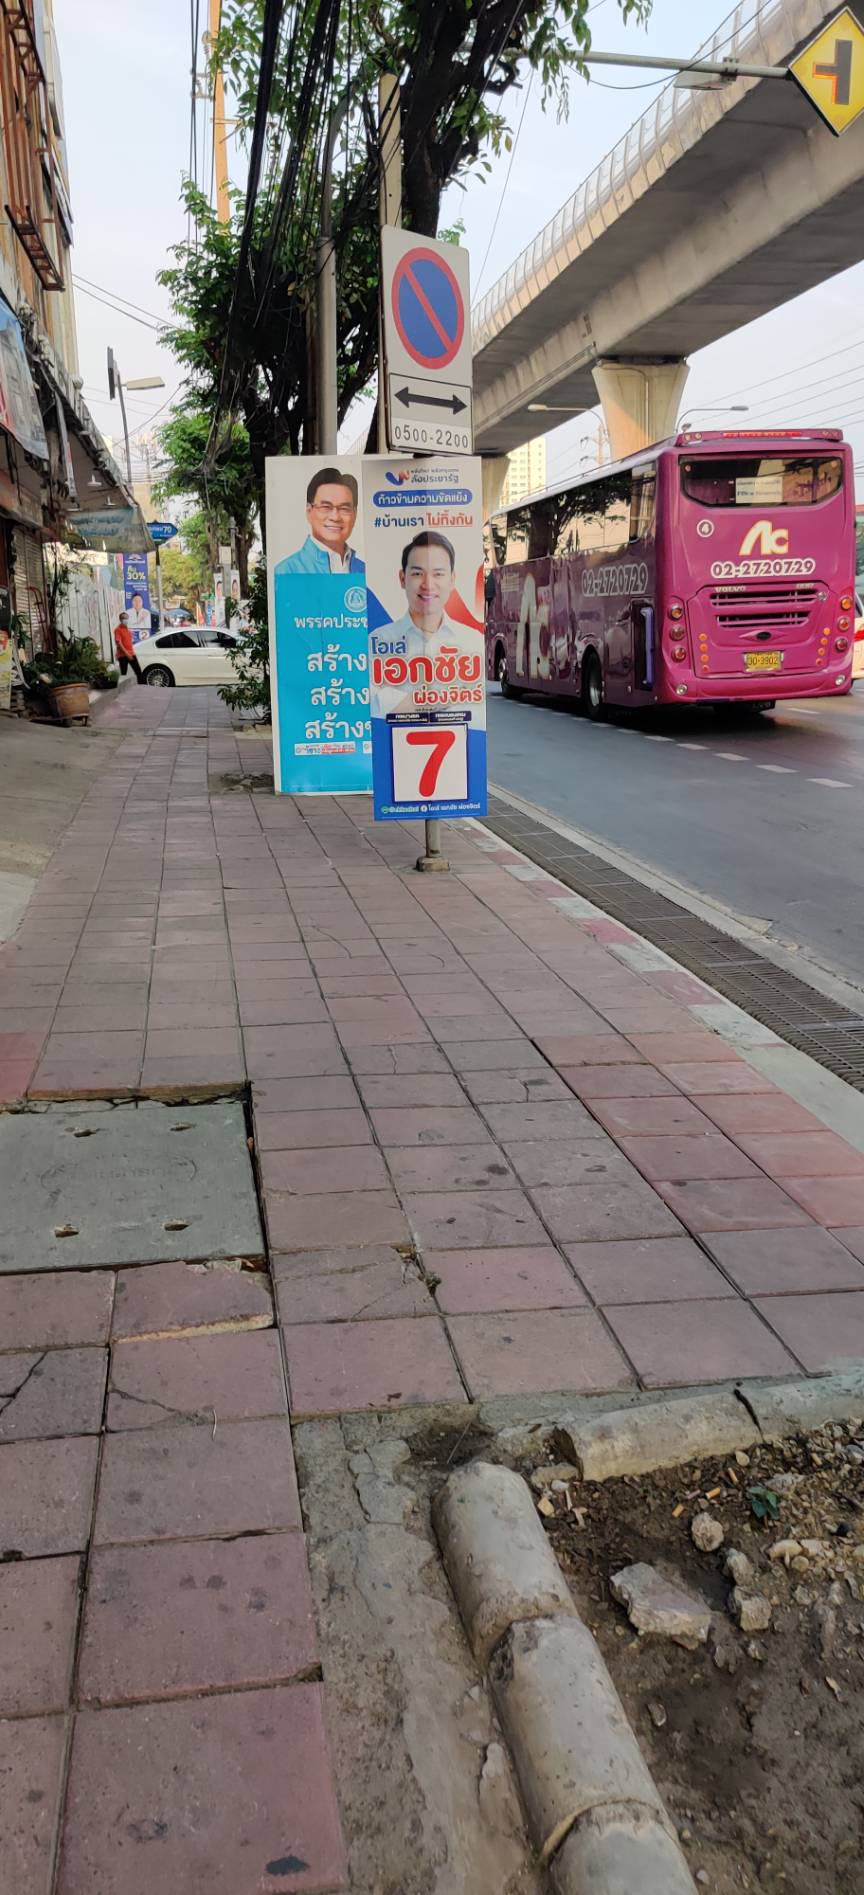Banner: (370, 454, 491, 836), (257, 448, 376, 807)
